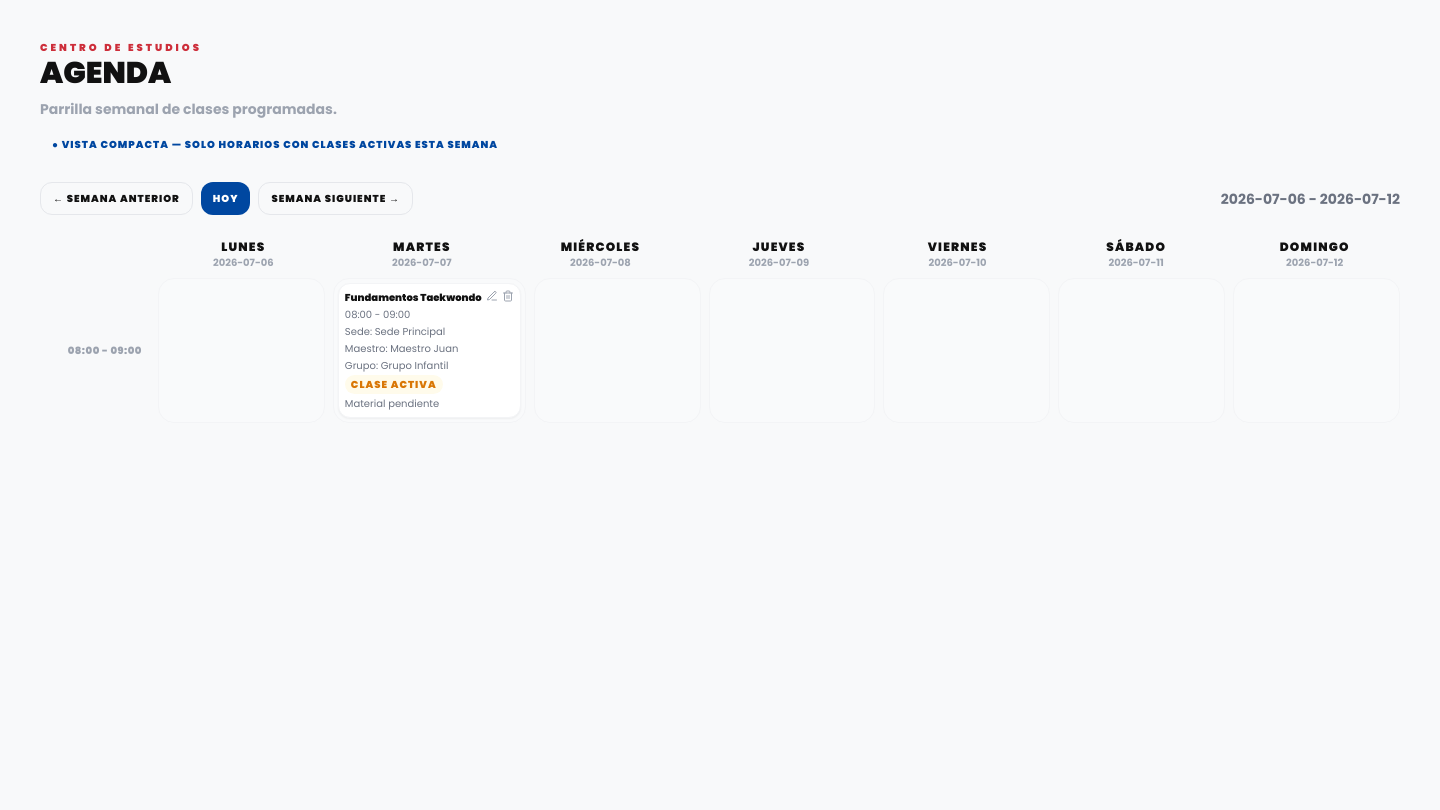
Test case: Extension: icono de eliminar en el bloque de la parrilla › si la jornada ya se opero, ofrece cancelar la clase en lugar de eliminarla, sin cerrar la confirmacion
Click the button named "eliminar clase" at (508, 296), box [502,290,514,302]
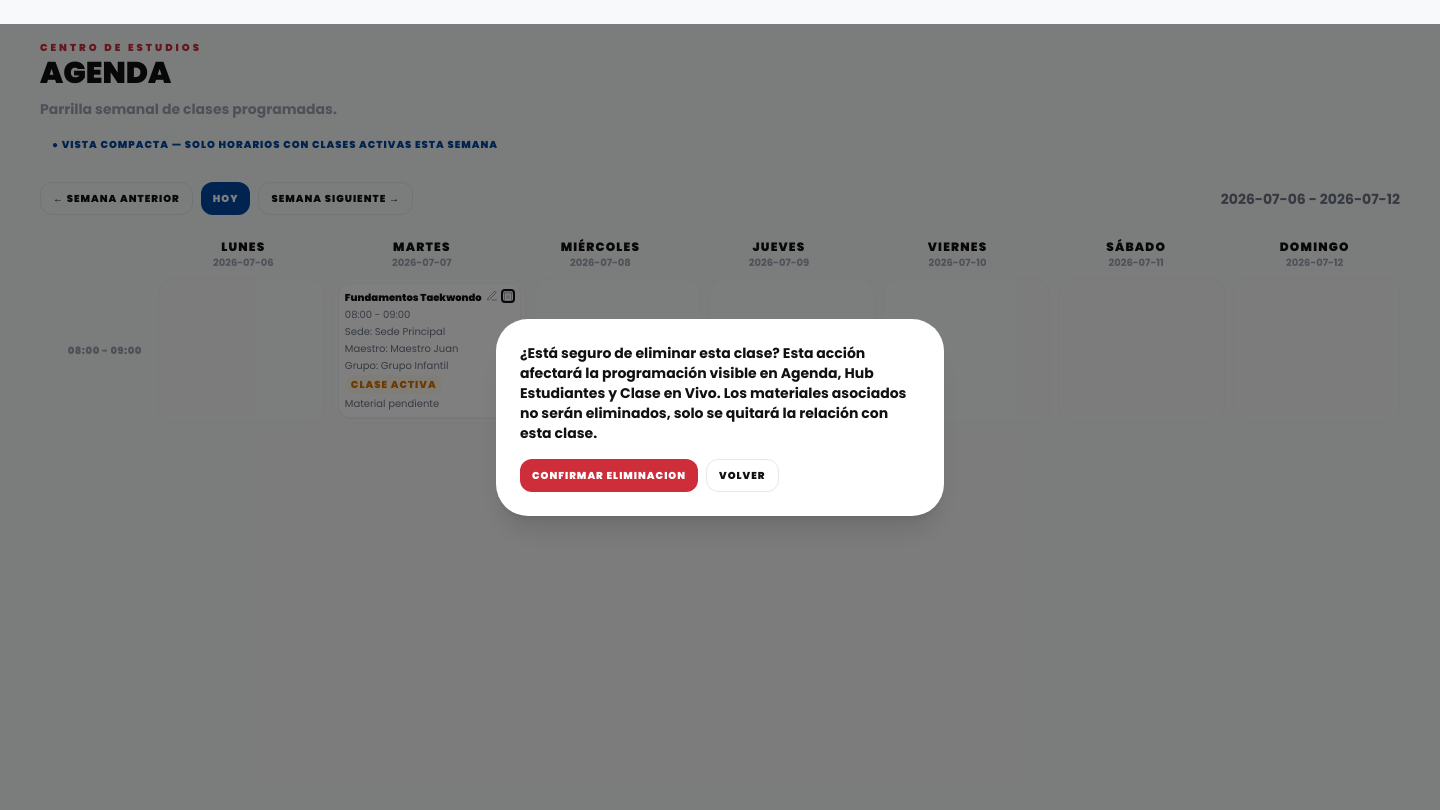
Click the button "Confirmar eliminacion" at (609, 475), box [520,458,698,492]
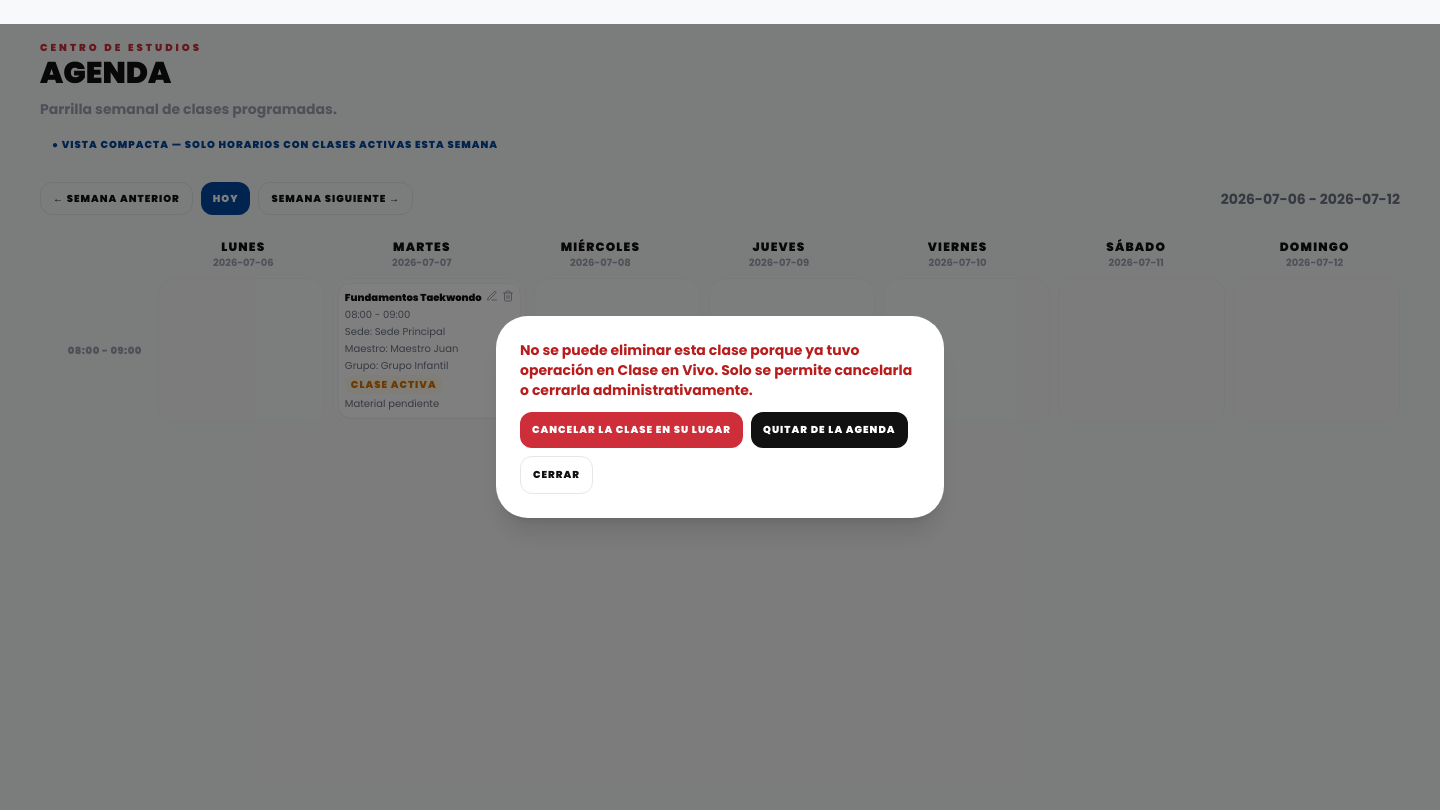
Expected: the dialog is shown
Expected: the button "Cancelar la clase en su lugar" is shown, [520,412,743,448]
